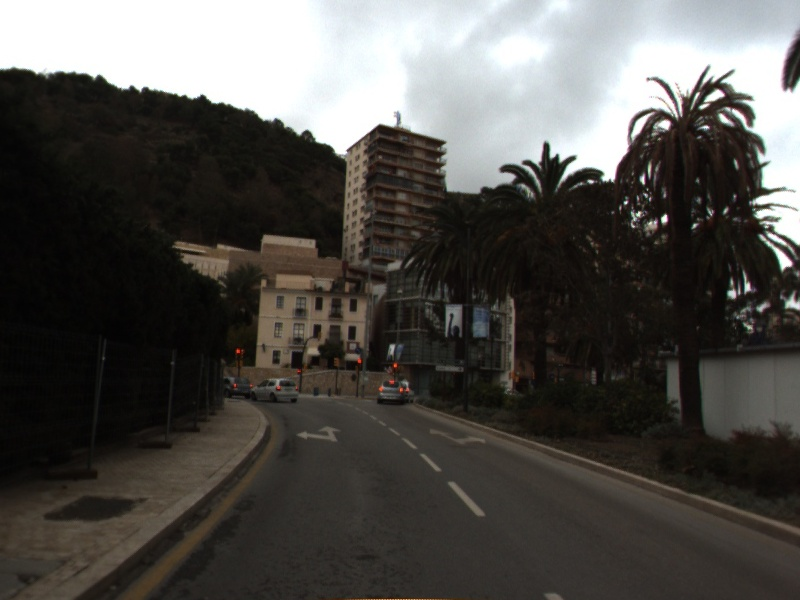STRAIGHT_LEFT: (293, 424, 345, 444)
STRAIGHT_RIGHT: (427, 425, 489, 447)
